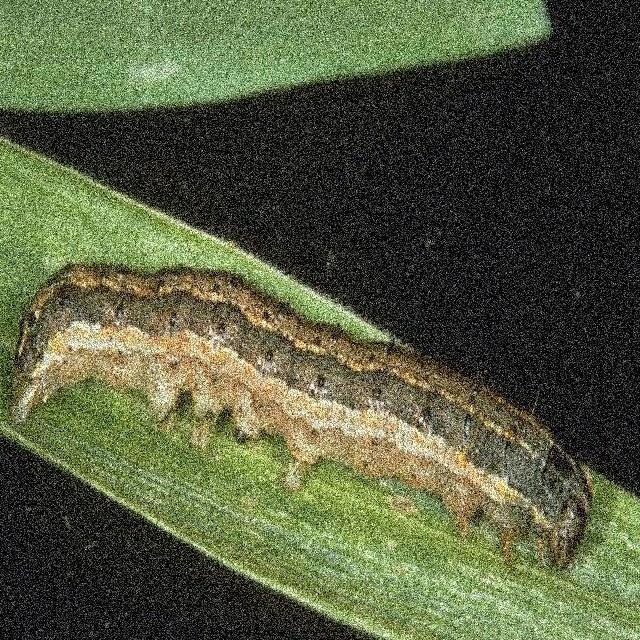gusano_cogollero: (0, 254, 594, 576)
